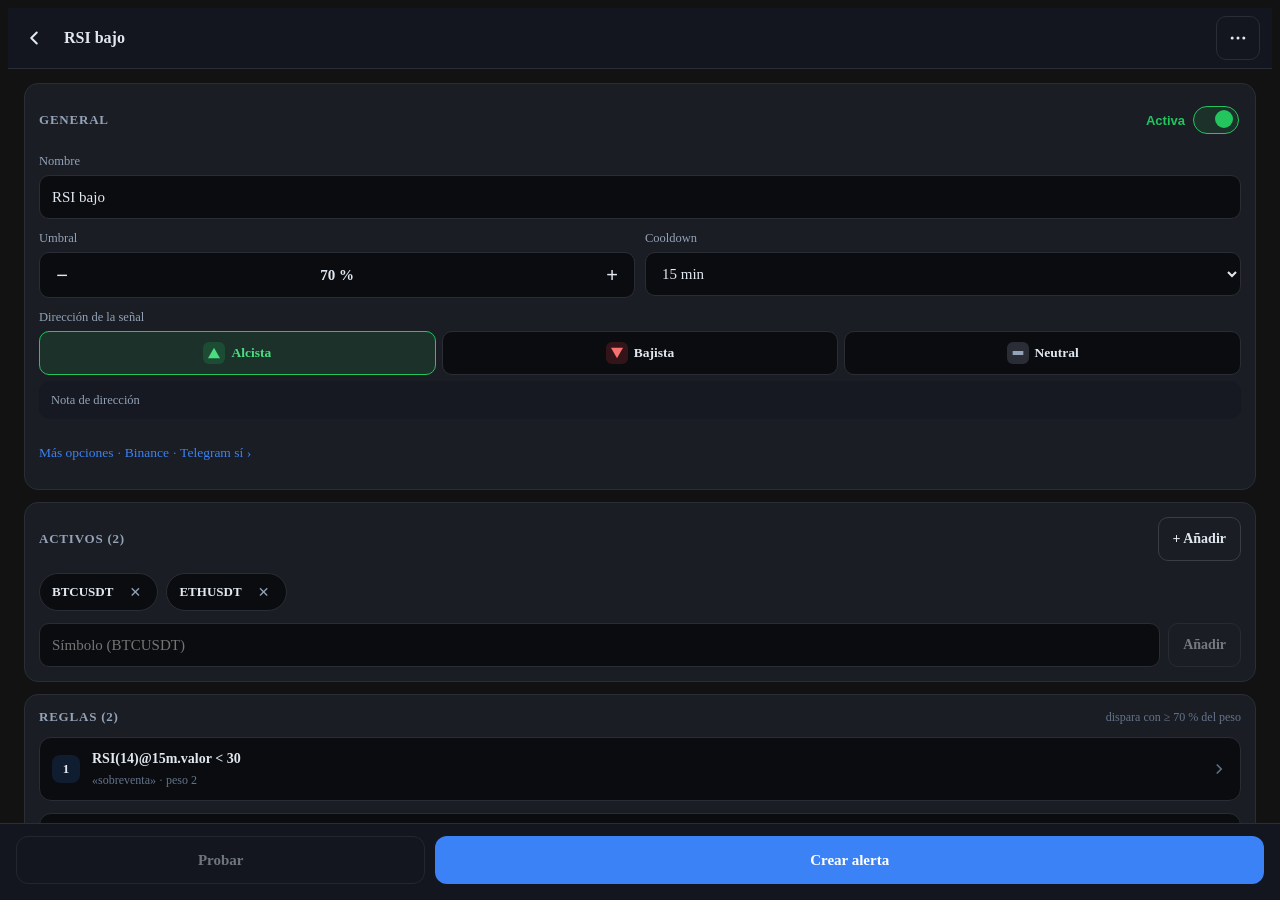
Test: MobileAlertEditor › sin selectedId el menú no ofrece Eliminar
This screenshot has width=1280, height=900.
Click the button named "Más acciones" at (1238, 38), box top-left (1216, 16), bottom-right (1260, 60)
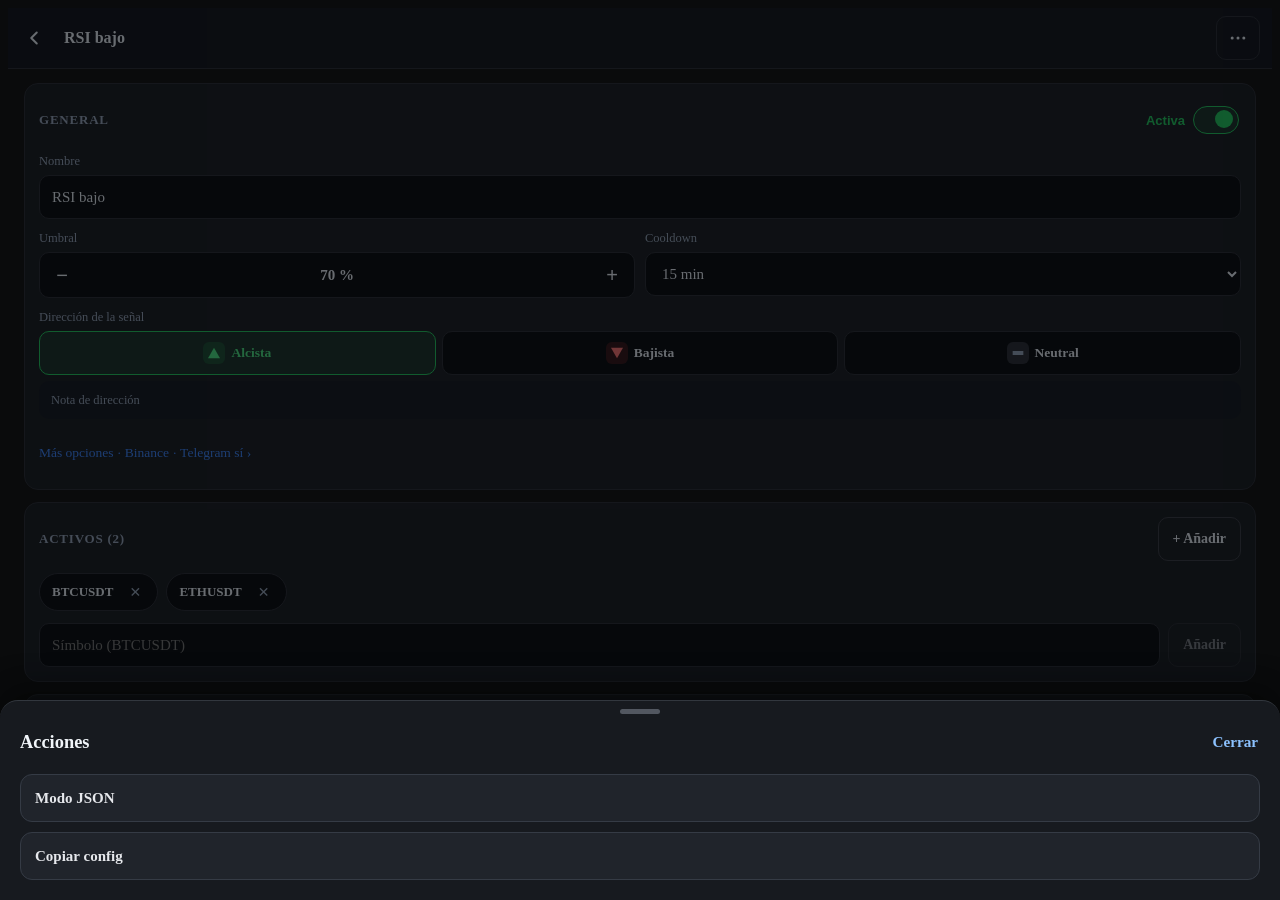
Result: the button "Modo JSON" is shown at top-left (20, 774), bottom-right (1260, 822)
